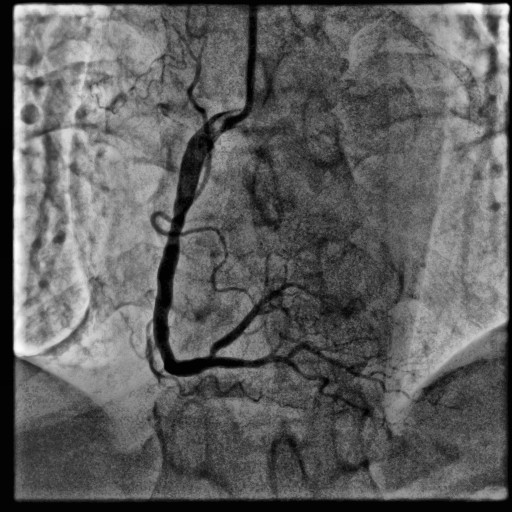pborca: (210, 282, 319, 357)
pda: (213, 355, 364, 412)
rca: (153, 108, 239, 377)
